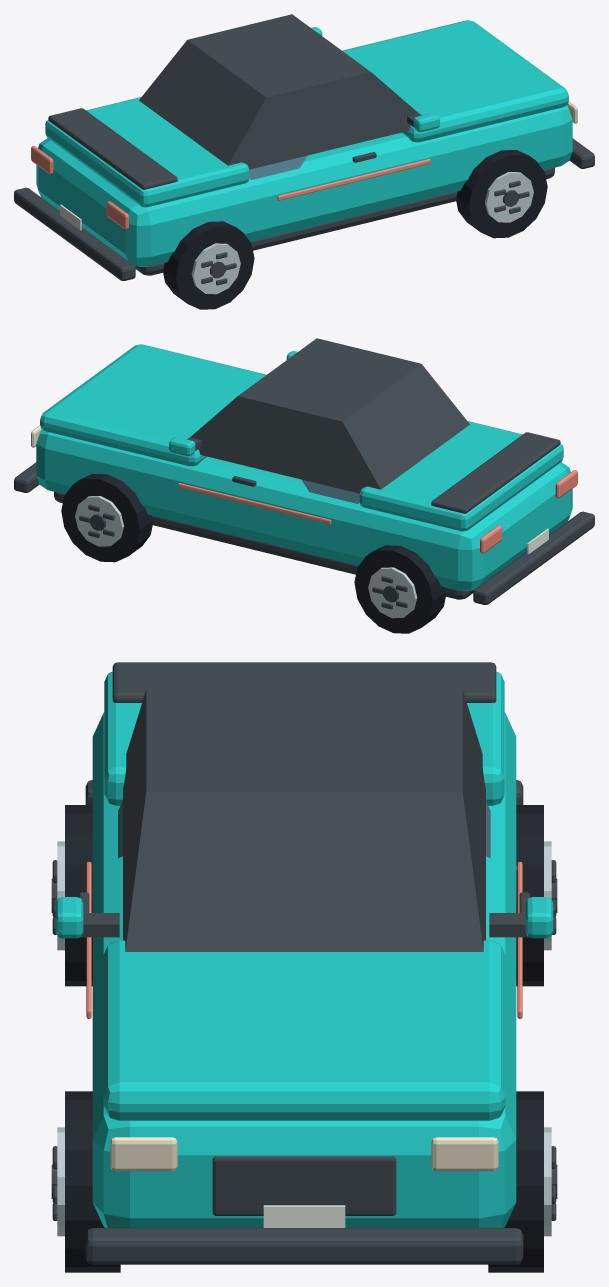
File: Car.fbx
3 renders of one model, top to bottom at view 1: azimuth 30°, elevation 25°; view 2: azimuth 150°, elevation 25°; view 3: azimuth 270°, elevation 25°, orthographic. The views are drawn at different scales.
Parts seen in each view (by area): view 1: Car; view 2: Car; view 3: Car.
Boxes of the visible parts, x1,y1,x2,y2 form: Car: (14, 14, 594, 309); Car: (14, 338, 594, 633); Car: (51, 662, 557, 1272).
Bounding box in the file's own units: 471 × 170 × 218.
